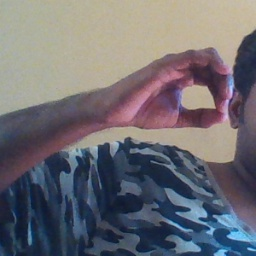O: (114, 41, 232, 139)
